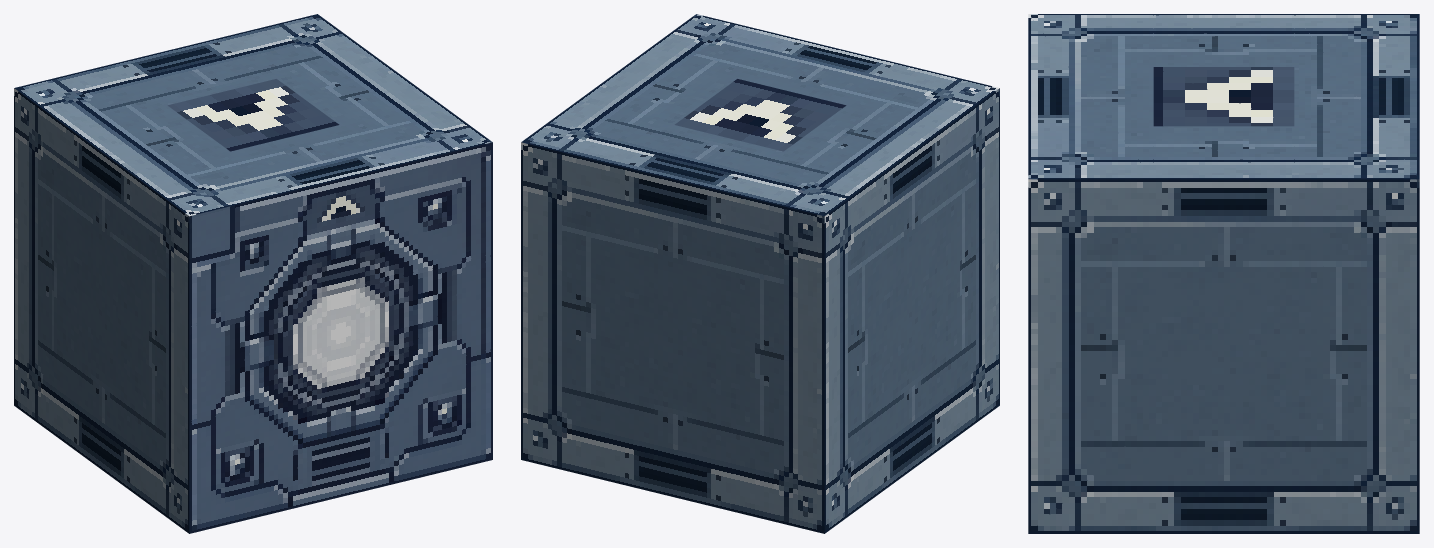
Rendered from LightEmitter.obj.
3 views of the same model, side by side, from view 1: azimuth 30°, elevation 25°; view 2: azimuth 150°, elevation 25°; view 3: azimuth 270°, elevation 25° (orthographic). The views are drawn at different scales.
Visible parts, largest first — view 1: LightEmitter_Shell, LightEmitter_Casing, LightEmitter_Optics, LightEmitter_TopIndicator; view 2: LightEmitter_Shell, LightEmitter_TopIndicator; view 3: LightEmitter_Shell, LightEmitter_TopIndicator.
Boxes of the visible parts, x1,y1,x2,y2 form: LightEmitter_Shell: (14,14,492,533); LightEmitter_Casing: (189,142,492,533); LightEmitter_Optics: (295,279,386,396); LightEmitter_TopIndicator: (167,79,339,151); LightEmitter_Shell: (521,14,999,533); LightEmitter_TopIndicator: (674,79,846,151); LightEmitter_Shell: (1028,14,1419,533); LightEmitter_TopIndicator: (1153,67,1294,126).
Bounding box in the file's own units: 1 × 1 × 1.
Materials: 4 (4 with a texture image).
